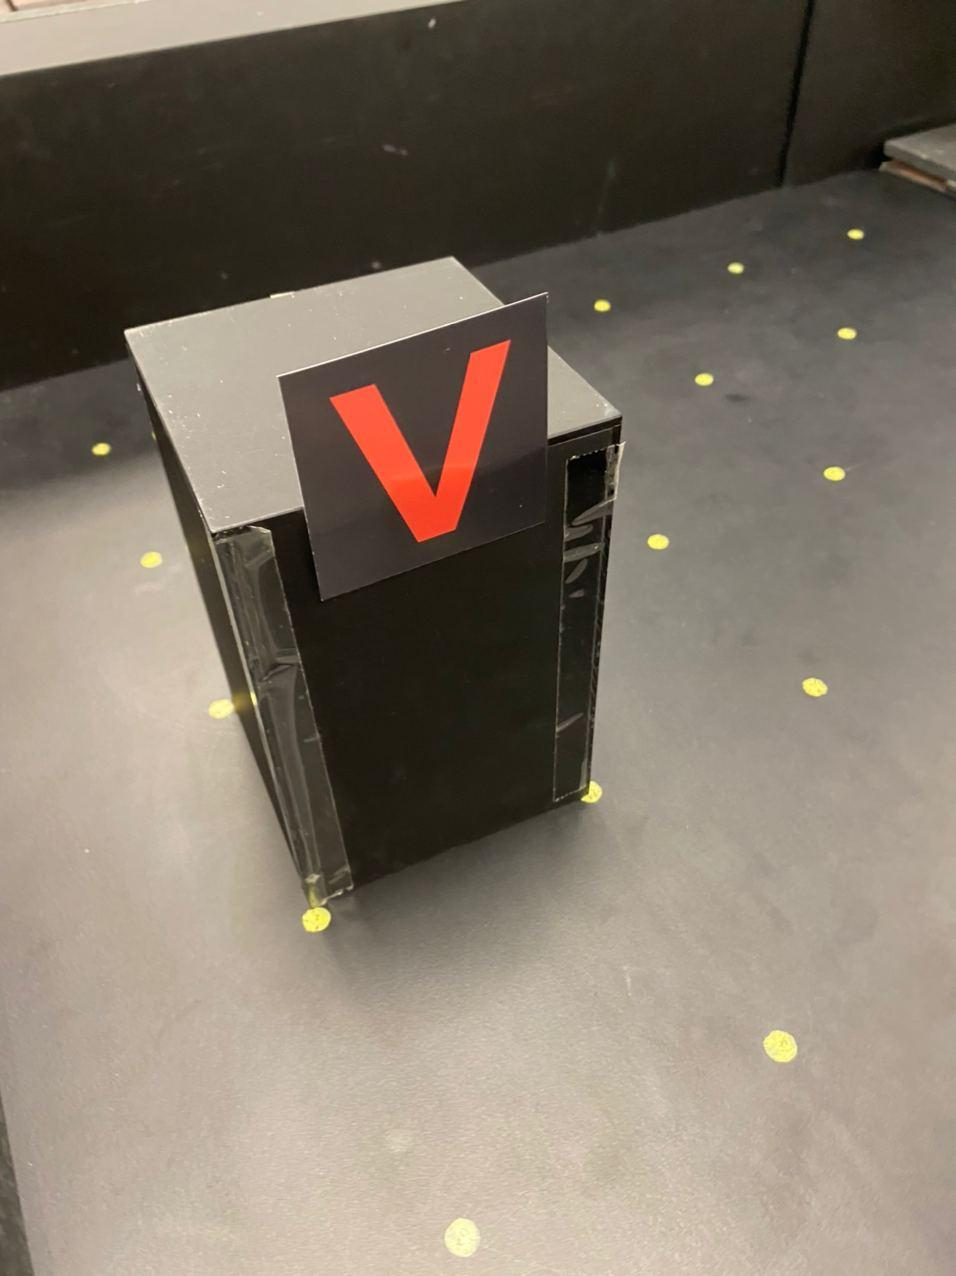v: (309, 356, 541, 553)
